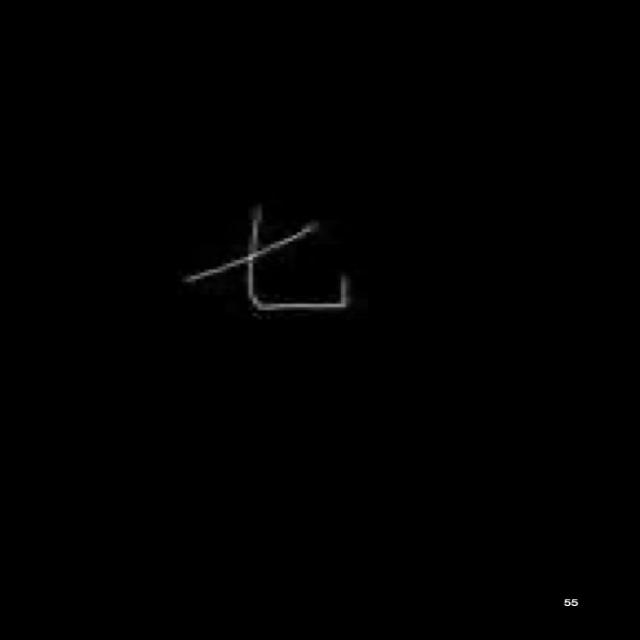7 -seven-: (175, 205, 362, 319)
